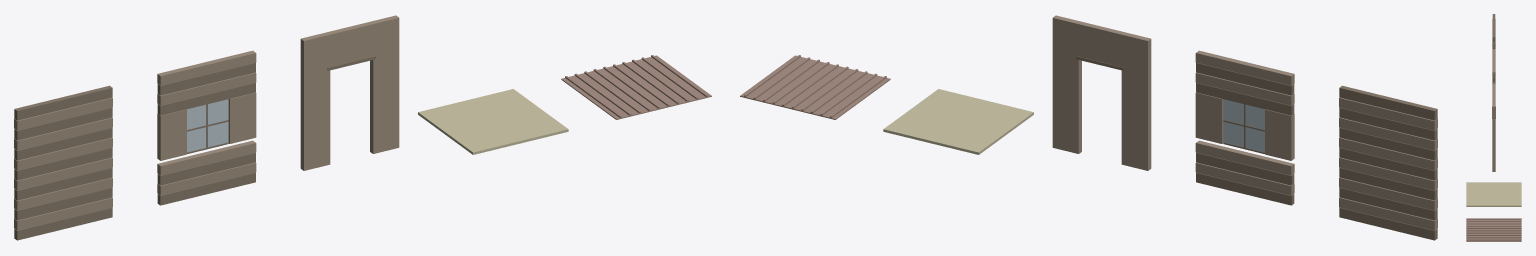
The model's file is house_kit.glb.
The picture shows the model from 3 angles, left to right: view 1: azimuth 30°, elevation 25°; view 2: azimuth 150°, elevation 25°; view 3: azimuth 270°, elevation 25°; orthographic projection. The views are drawn at different scales.
Parts seen in each view (by area): view 1: Wall_2m, Wall_Window_2m, Door_Frame, Floor_2m, Roof_Tile_2m; view 2: Wall_2m, Wall_Window_2m, Door_Frame, Floor_2m, Roof_Tile_2m; view 3: Floor_2m, Roof_Tile_2m, Door_Frame, Wall_2m, Wall_Window_2m.
Part boxes in pixels (box(x1,y1,x2,y2)): Wall_2m: box(14, 85, 112, 240); Wall_Window_2m: box(157, 50, 256, 205); Door_Frame: box(300, 15, 399, 170); Floor_2m: box(418, 89, 568, 154); Roof_Tile_2m: box(561, 55, 711, 119); Wall_2m: box(1339, 85, 1437, 240); Wall_Window_2m: box(1195, 50, 1294, 205); Door_Frame: box(1052, 15, 1151, 170); Floor_2m: box(883, 89, 1033, 154); Roof_Tile_2m: box(740, 55, 890, 119); Floor_2m: box(1466, 182, 1521, 206); Roof_Tile_2m: box(1466, 218, 1521, 241); Door_Frame: box(1492, 83, 1495, 171); Wall_2m: box(1492, 14, 1495, 48); Wall_Window_2m: box(1492, 49, 1495, 83).
Size of the model in its own units: 14 by 2.6 by 2.
